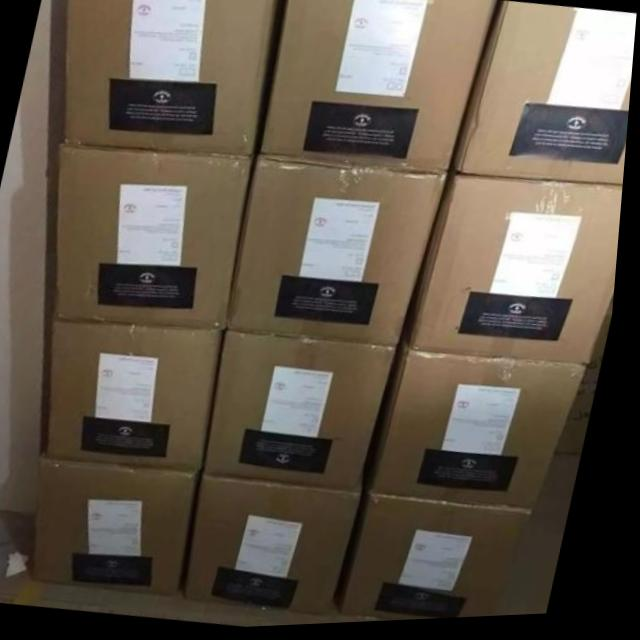box: (411, 164, 626, 370), (232, 157, 451, 351), (263, 0, 496, 177), (377, 335, 595, 515), (61, 144, 259, 334), (66, 0, 278, 158), (456, 5, 637, 190), (210, 334, 403, 494), (52, 322, 231, 476), (347, 482, 541, 624), (194, 476, 372, 620), (40, 458, 209, 596)
